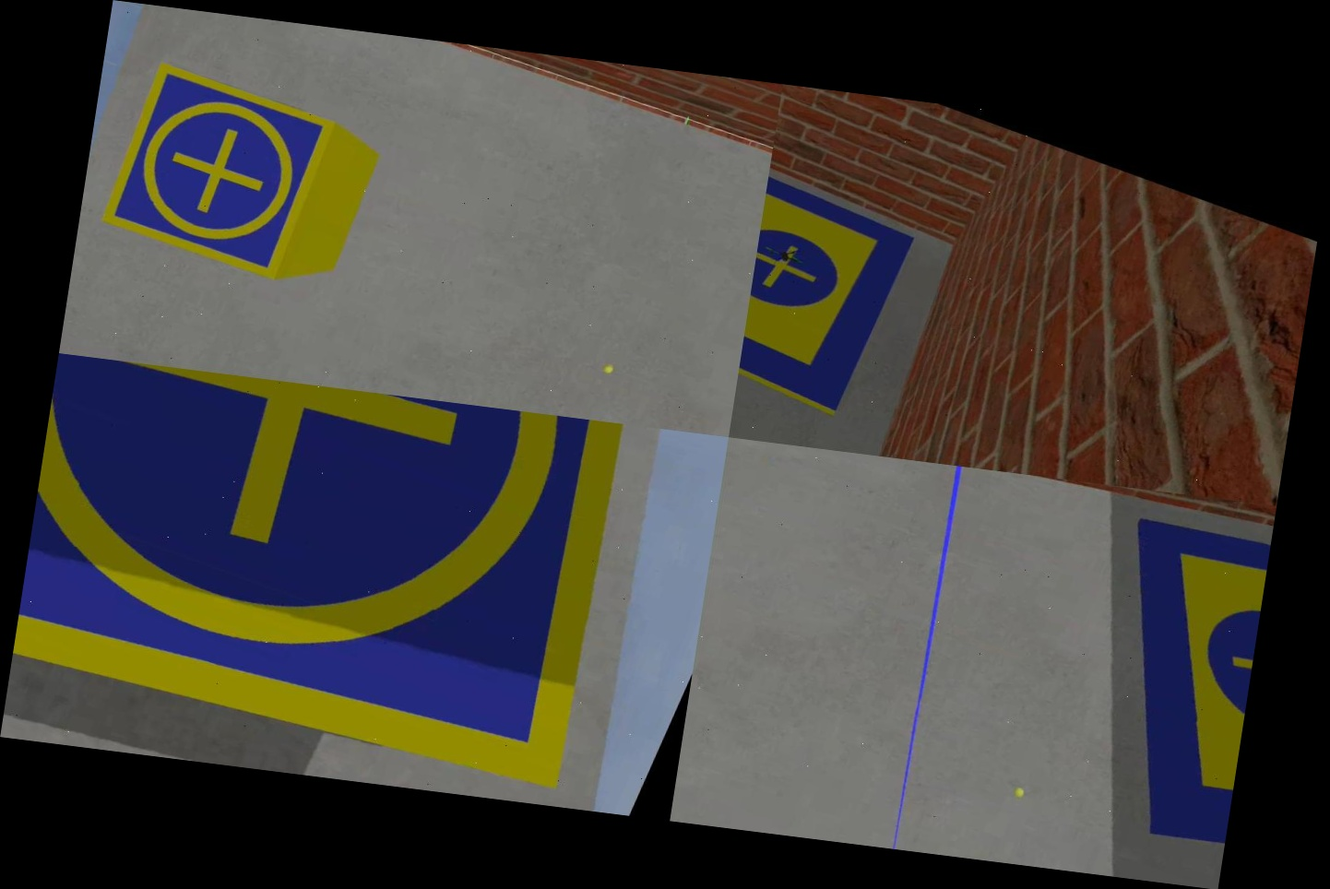large_base: (1006, 480, 1276, 889), (733, 148, 934, 429)
small_base: (0, 353, 729, 820), (79, 49, 354, 292)
